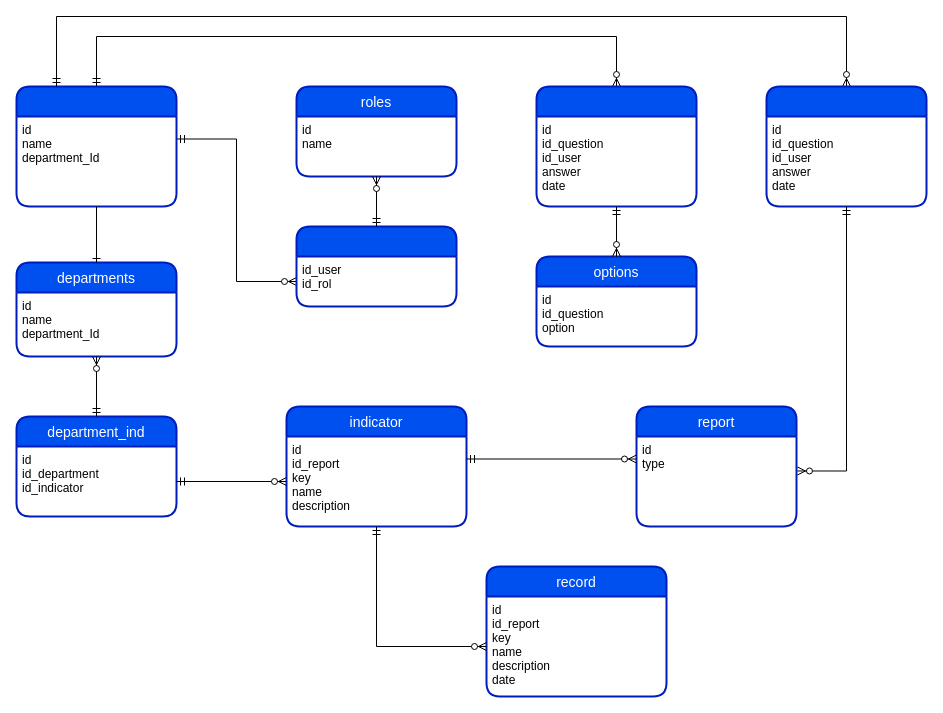
Image size: 943x713. Some labels were removed from this diagram. Here are the shapes that lost their labels. From the top down, the box of each, then its label:
(15, 85, 177, 207): users
(535, 85, 697, 207): answers
(765, 85, 927, 207): forms
(295, 225, 457, 307): assigned_roles
